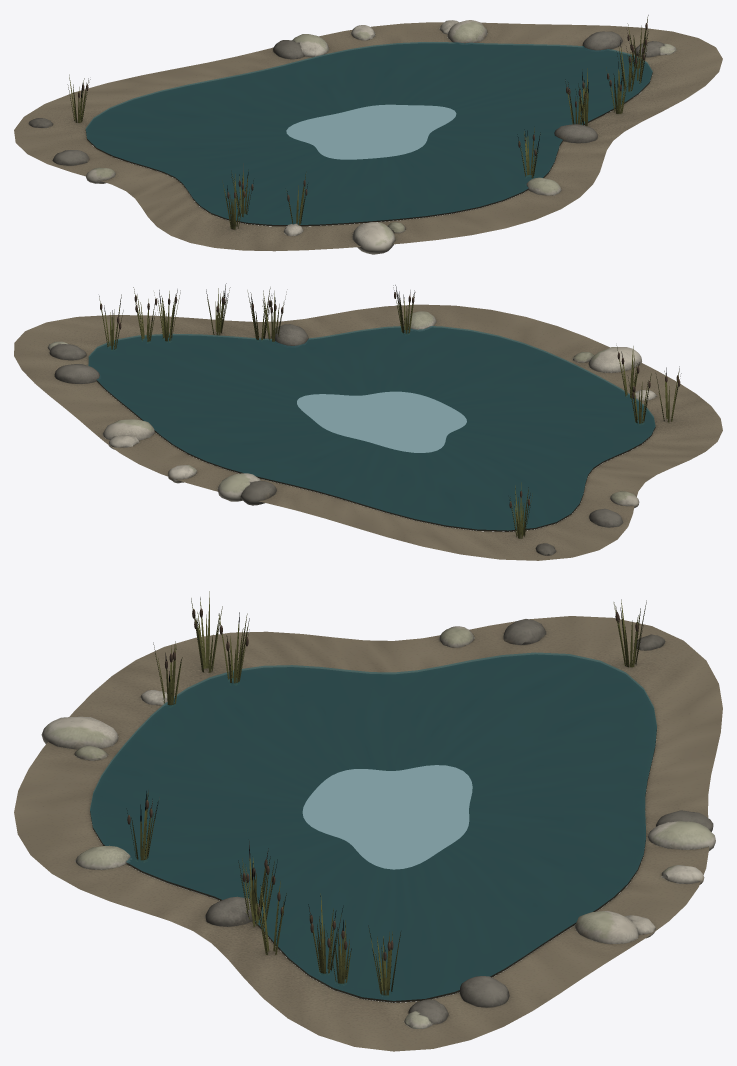
File: costa_lago.glb
3 views of the same model, one above another, from view 1: azimuth 30°, elevation 25°; view 2: azimuth 150°, elevation 25°; view 3: azimuth 270°, elevation 25° (orthographic). The views are drawn at different scales.
Visible parts, largest first — view 1: costa_lago; view 2: costa_lago; view 3: costa_lago.
Part boxes in pixels (box(x1,y1,x2,y2)): costa_lago: box(14, 15, 722, 254); costa_lago: box(14, 283, 722, 560); costa_lago: box(14, 591, 722, 1051).
Bounding box in the file's own units: 18.57 × 1.79 × 12.77.
Materials: 2 (1 with a texture image).
